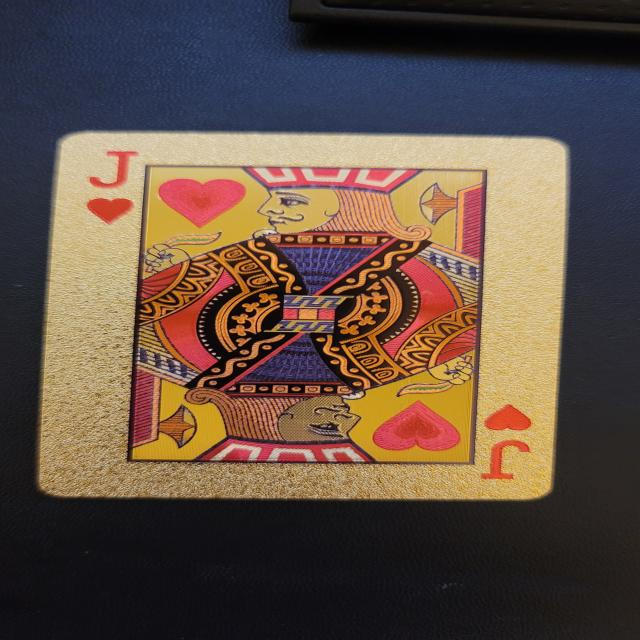Jack of hearts: (31, 130, 576, 503)
